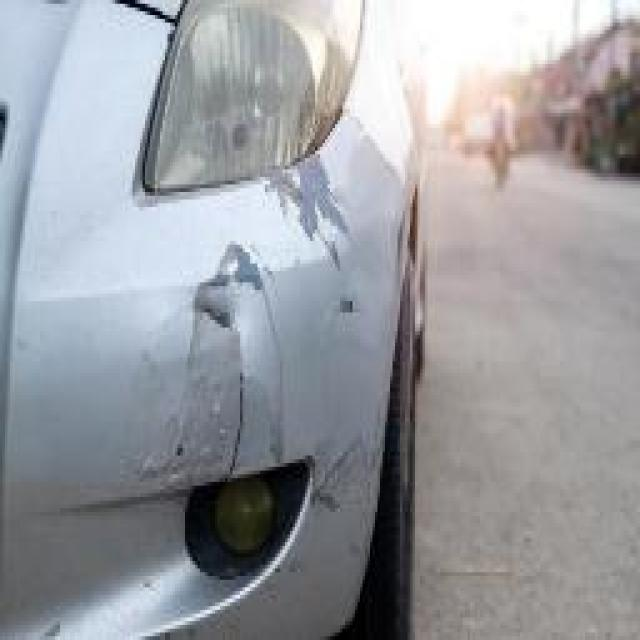Bumper: (0, 107, 429, 632)
